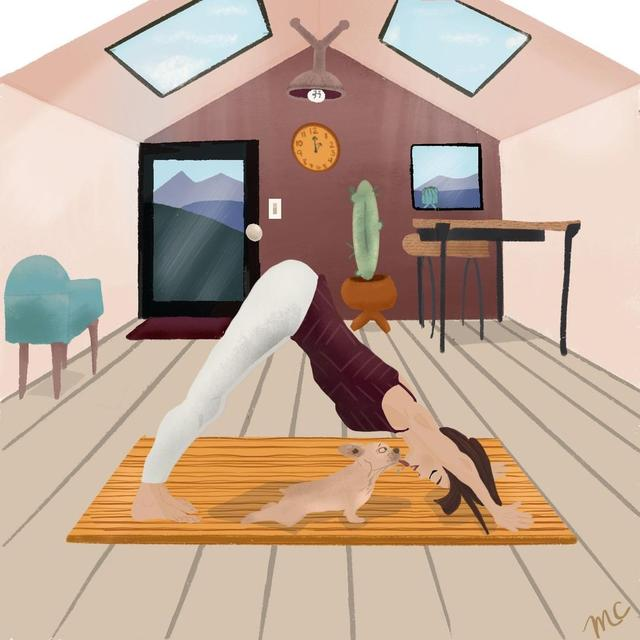Downward-Facing_Dog: (124, 254, 542, 535)
